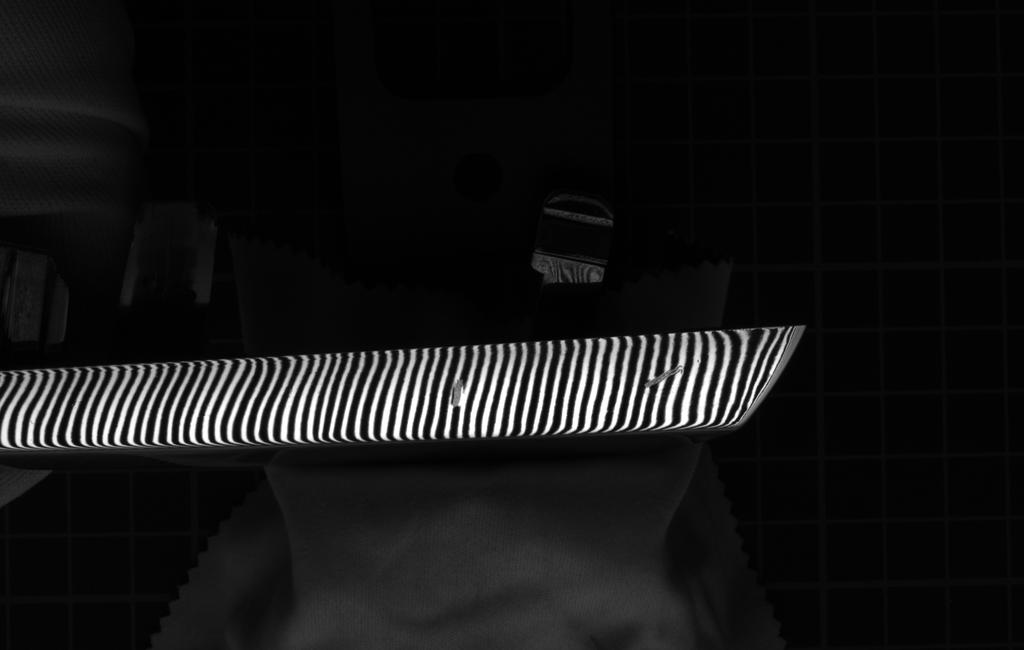Scratch: (633, 358, 693, 396), (448, 369, 469, 414)
